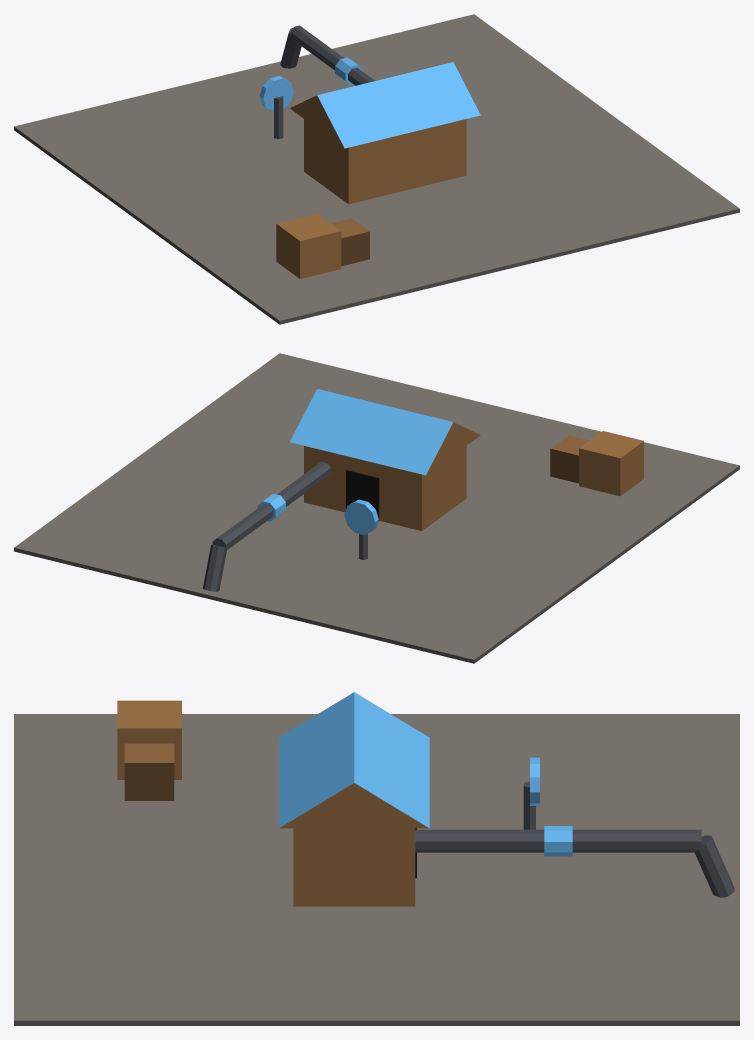
Rendered from water_pump_1.glb.
The picture shows the model from 3 angles, top to bottom: view 1: azimuth 30°, elevation 25°; view 2: azimuth 150°, elevation 25°; view 3: azimuth 270°, elevation 25°; orthographic projection. The views are drawn at different scales.
Parts seen in each view (by area): view 1: water_pump_1; view 2: water_pump_1; view 3: water_pump_1.
Boxes of the visible parts, left/top/right/bottom form: water_pump_1: left=14, top=14, right=739, bottom=324; water_pump_1: left=14, top=353, right=739, bottom=663; water_pump_1: left=14, top=692, right=739, bottom=1025.
Size of the model in its own units: 3.8 by 0.78 by 3.8.
